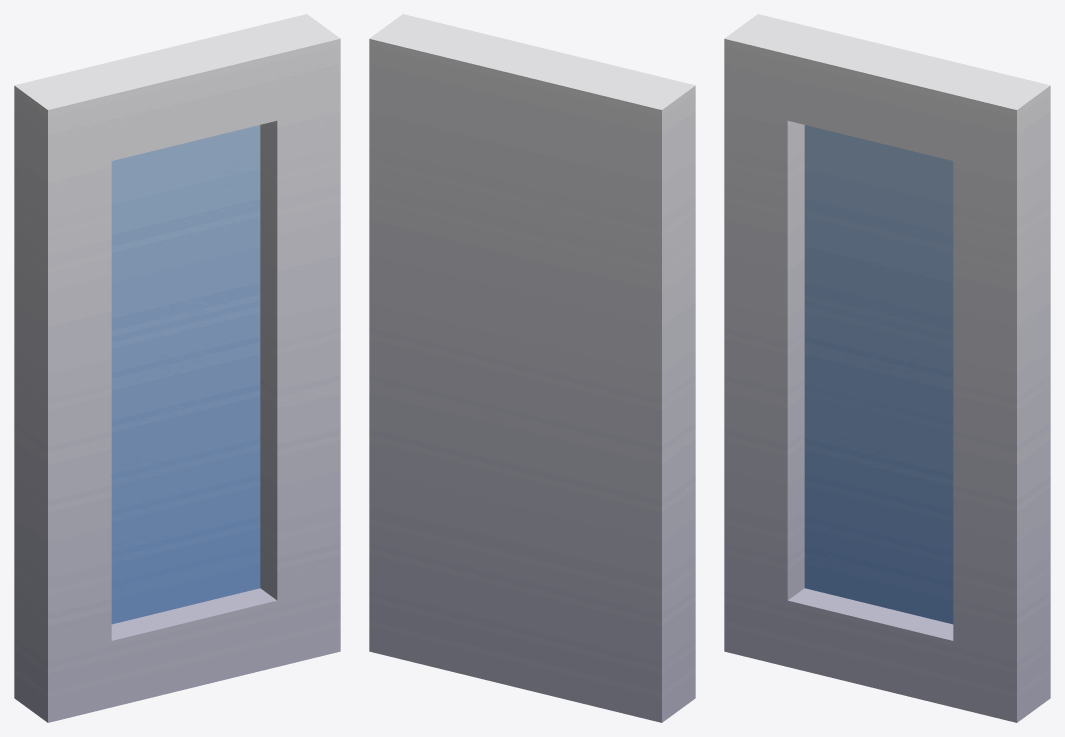
Rendered from door_white_glass.glb.
3 views of the same model, side by side, from view 1: azimuth 30°, elevation 25°; view 2: azimuth 150°, elevation 25°; view 3: azimuth 330°, elevation 25° (orthographic).
Visible parts, largest first — view 1: door-white-glass; view 2: door-white-glass; view 3: door-white-glass.
Part boxes in pixels (left/top/right/bottom): door-white-glass: left=14, top=14, right=340, bottom=722; door-white-glass: left=369, top=14, right=695, bottom=722; door-white-glass: left=724, top=14, right=1050, bottom=722.
Bounding box in the file's own units: 0.25 × 0.5 × 0.05.
Materials: 1 (1 with a texture image).
